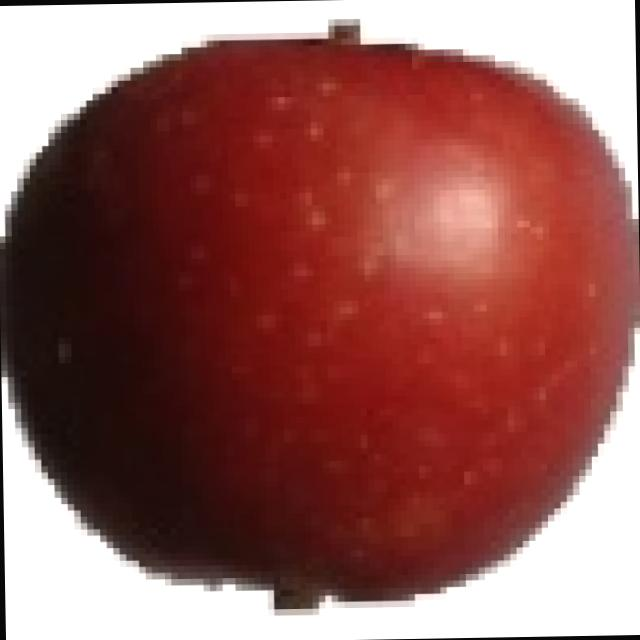apple: (0, 31, 638, 612)
